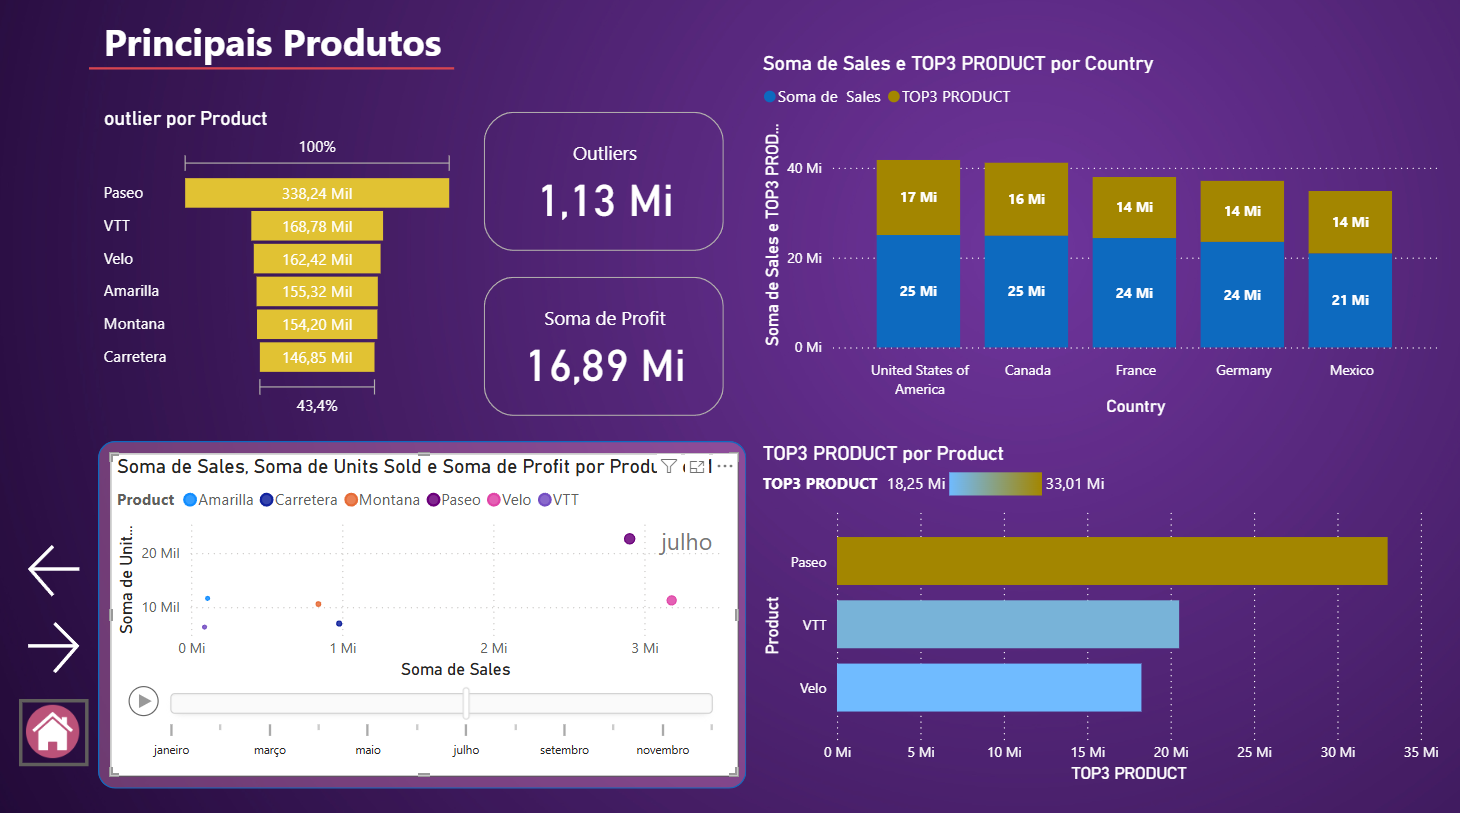

The dashboard page shown, as its layout file describes it:
{"tool":"powerbi","page":{"name":"TOPN e Outliers","canvas":[1280,720],"ordinal":3},"visuals":[{"type":"image","box":[10.4,0,1269.6,720.2],"z":0},{"type":"shape","title":"Sublinhado","box":[91.9,38.4,315,57.5],"z":0,"group":"g2"},{"type":"image","box":[32.3,611.7,57.5,55.5],"z":0,"group":"g1"},{"type":"textbox","box":[100,17.2,312.9,69.7],"z":1000,"group":"g2"},{"type":"actionButton","title":"Botão - Next","box":[32.4,539.2,58,56.3],"z":1000},{"type":"actionButton","box":[32.3,611.7,60,58],"z":1000,"group":"g1"},{"type":"actionButton","title":"Botão - Next","box":[34.3,472.4,57.5,56.5],"z":2000},{"type":"group","id":"g1","title":"Botão Home","box":[32.3,611.7,60,58],"z":3000},{"type":"columnChart","fields":{"Y":["Sum(financials. Sales)","financials.TOP3 PRODUCT"],"Category":["financials.Country"]},"box":[668.3,52.5,592.6,320],"z":4000},{"type":"clusteredBarChart","fields":{"Y":["financials.TOP3 PRODUCT"],"Category":["financials.Product"]},"box":[668.3,388.6,592.6,299.8],"z":5000},{"type":"shape","box":[99.9,388.6,559.2,299.8],"z":6000},{"type":"scatterChart","fields":{"X":["Sum(financials. Sales)"],"Size":["Sum(financials.Profit)"],"Series":["financials.Product"],"Play":["financials.Date.Variation.Hierarquia de datas.Mês"],"Y":["Sum(financials.Units Sold)"]},"box":[110,399.7,542.1,278.6],"z":7000},{"type":"group","id":"g2","title":"Titulo","box":[91.9,17.2,321,78.7],"z":8000},{"type":"funnel","fields":{"Category":["financials.Product"],"Y":["financials.outlier"]},"box":[99.9,99.9,312.9,272.6],"z":9000},{"type":"cardVisual","fields":{"Data":["financials.outlier"]},"box":[428,99.9,217,130.2],"z":10000},{"type":"cardVisual","fields":{"Data":["Sum(financials.Profit)"]},"box":[428,242.3,217,130.2],"z":11000}]}

Visuals, with their boxes in screenshot pixels (x1, y1, x2, y2), scaled from the page's 1280x720 canvas onto the 1460x813 screenshot:
image: 12, 0, 1459, 812
"Sublinhado" shape: 105, 43, 464, 108
image: 37, 691, 102, 753
textbox: 114, 19, 471, 98
"Botão - Next" actionButton: 37, 609, 103, 672
actionButton: 37, 691, 105, 756
"Botão - Next" actionButton: 39, 533, 105, 597
"Botão Home" group: 37, 691, 105, 756
columnChart - Sum(financials. Sales) x financials.TOP3 PRODUCT: 762, 59, 1438, 421
clusteredBarChart - financials.TOP3 PRODUCT x financials.Product: 762, 439, 1438, 777
shape: 114, 439, 752, 777
scatterChart - Sum(financials. Sales) x Sum(financials.Profit): 125, 451, 744, 766
"Titulo" group: 105, 19, 471, 108
funnel - financials.Product x financials.outlier: 114, 113, 471, 421
cardVisual - financials.outlier: 488, 113, 736, 260
cardVisual - Sum(financials.Profit): 488, 274, 736, 421
